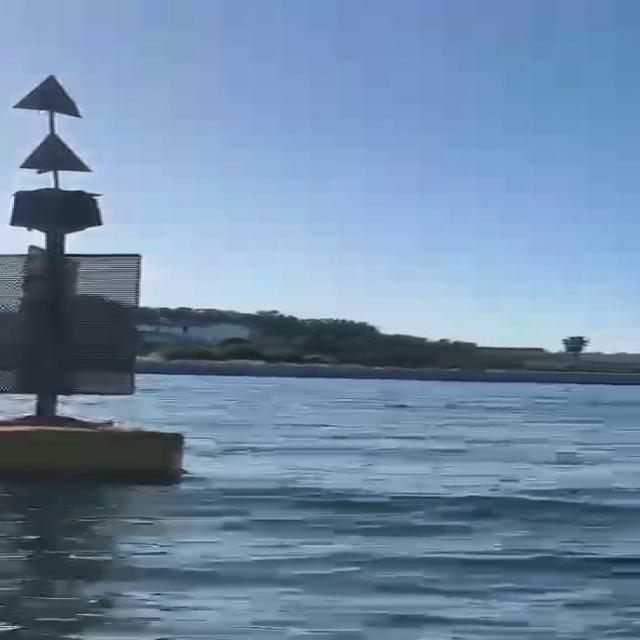marque: (1, 81, 190, 490)
